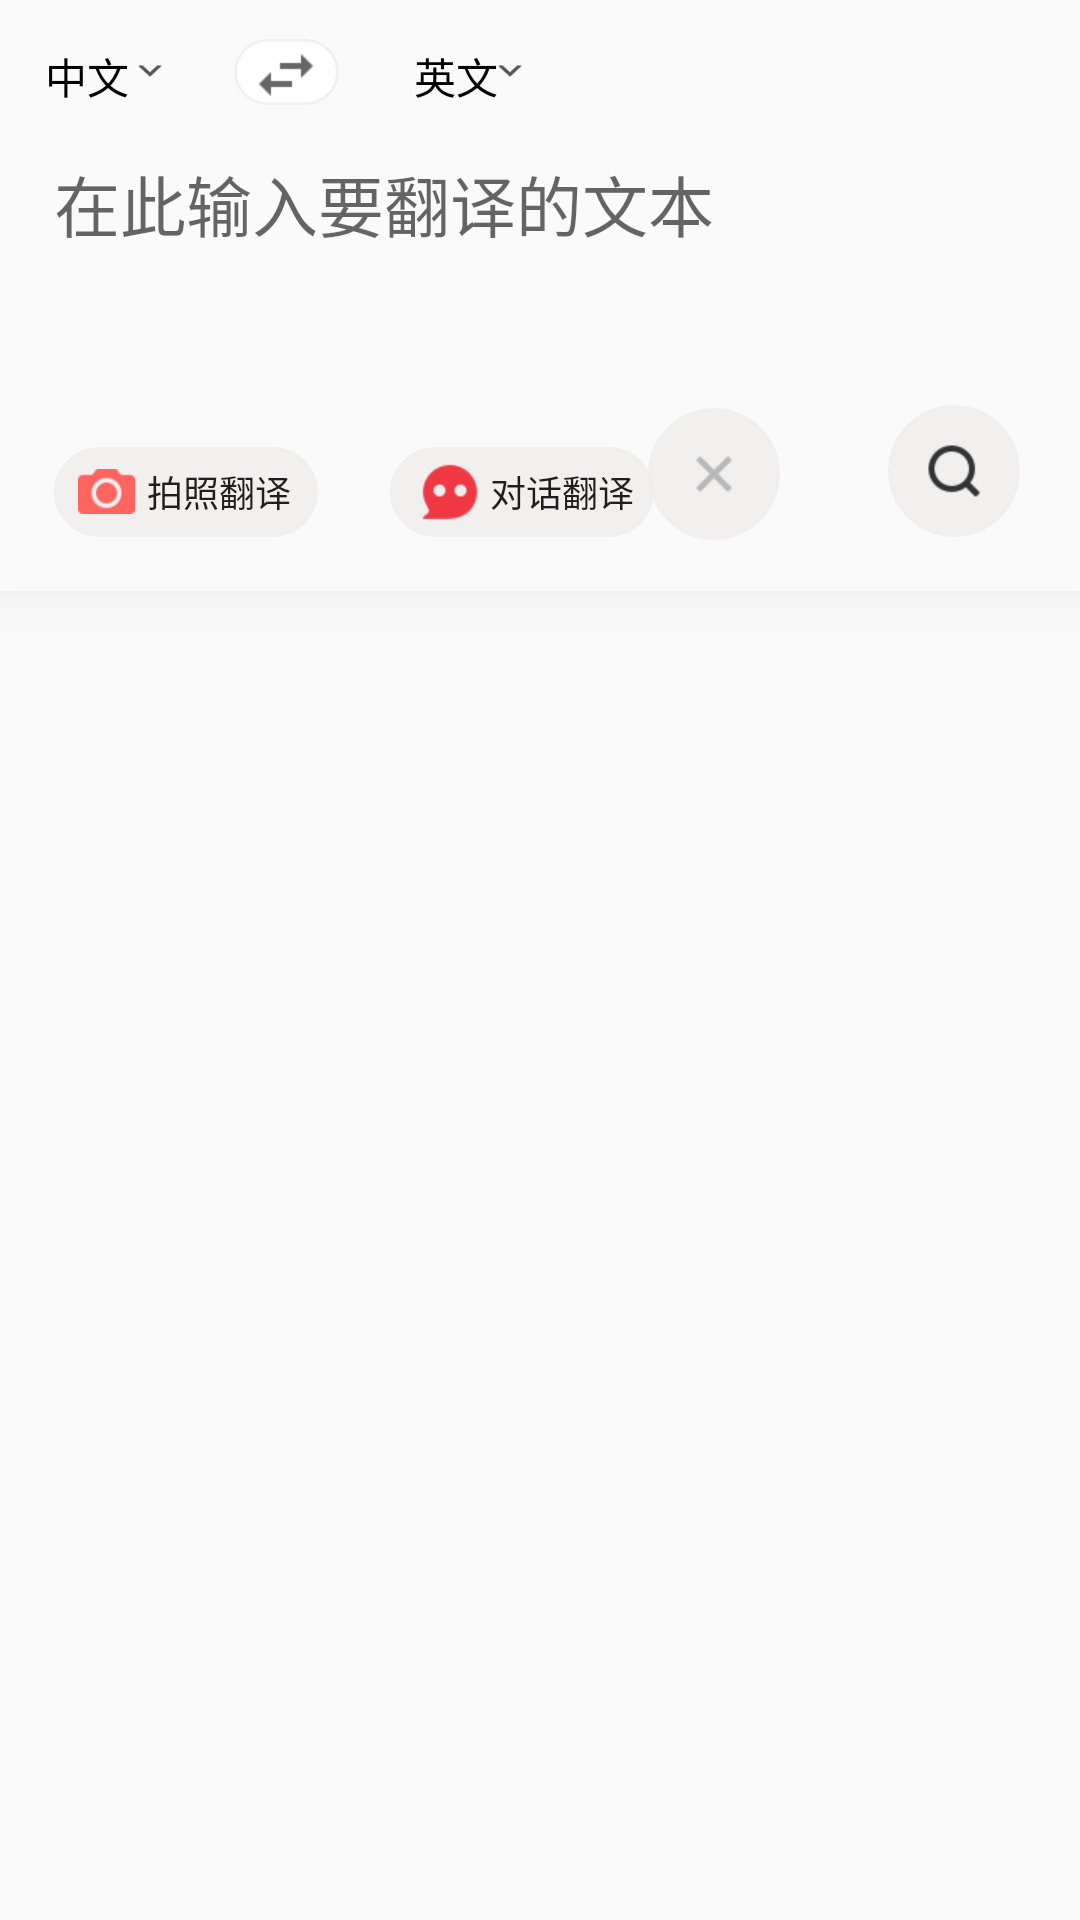

Icon click points for this 1080 × 1920 phone screenshot, format [x,y]:
search: [954,471]
search clear all ke: [714,474]
